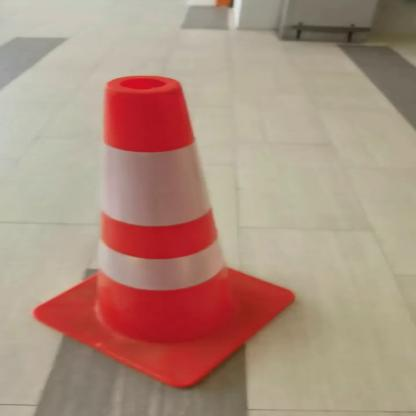cone: (26, 67, 317, 394)
